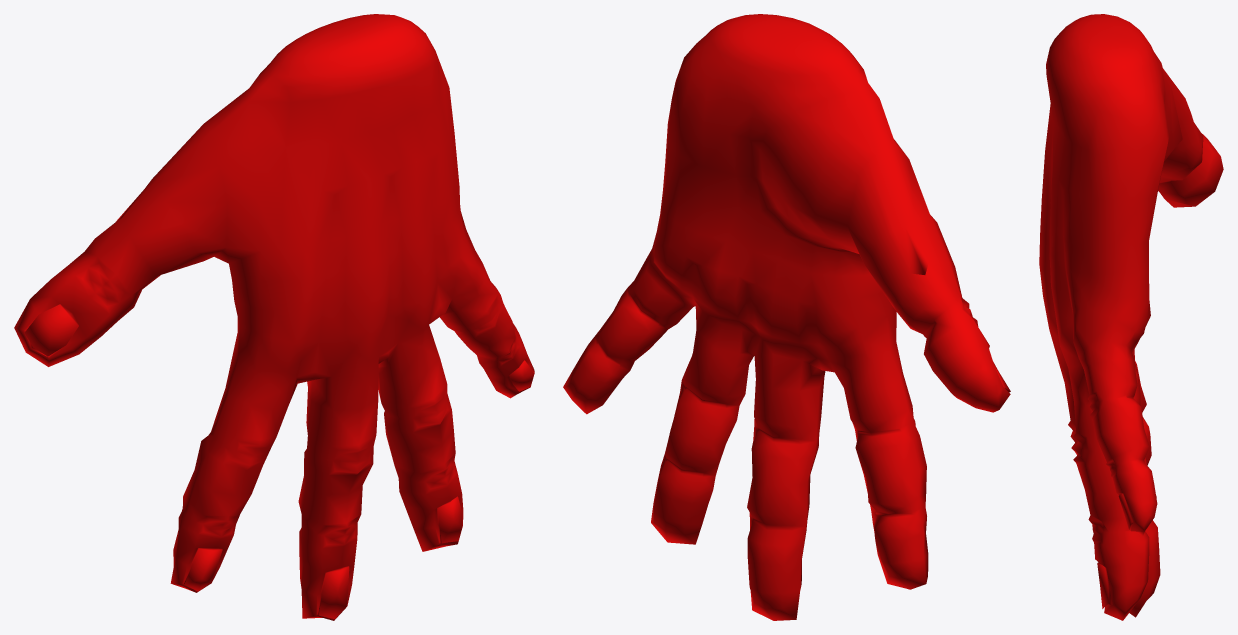
Rendered from Hand.dae.
The picture shows the model from 3 angles, left to right: view 1: azimuth 30°, elevation 25°; view 2: azimuth 150°, elevation 25°; view 3: azimuth 270°, elevation 25°; orthographic projection. The views are drawn at different scales.
Visible parts, largest first — view 1: Hand; view 2: Hand; view 3: Hand.
Boxes of the visible parts, box(x1,y1,x2,y2) form: Hand: box(14, 14, 534, 620); Hand: box(563, 14, 1010, 620); Hand: box(1039, 14, 1223, 620).
Bounding box in the file's own units: 0.1651 × 0.0556 × 0.1954.
